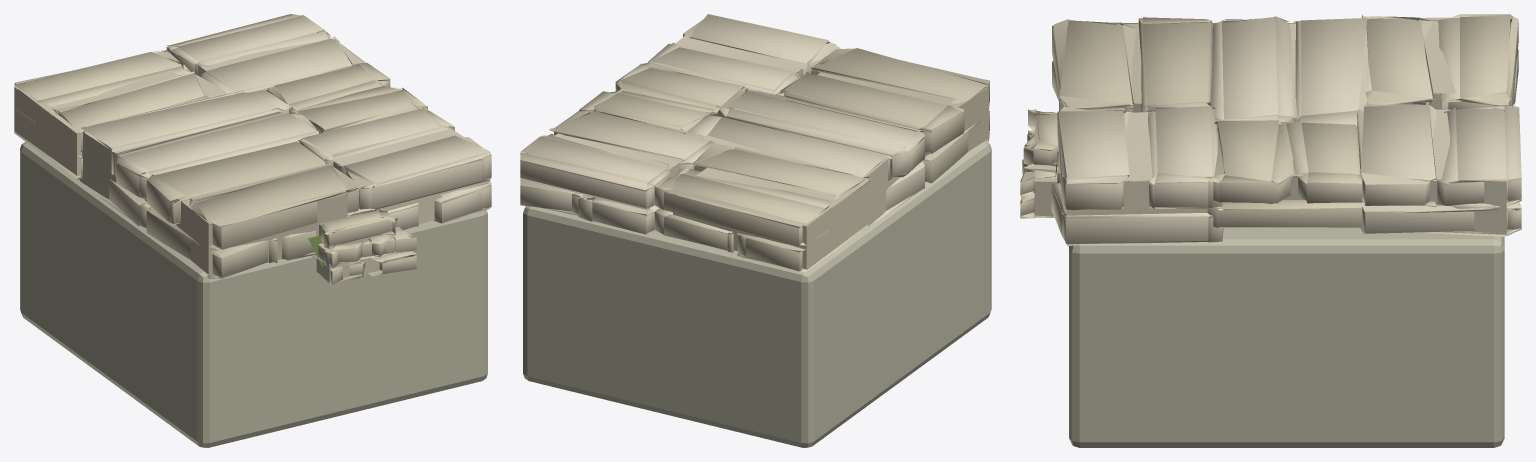
The model's file is bridge-02.glb.
3 renders of one model, left to right at view 1: azimuth 30°, elevation 25°; view 2: azimuth 150°, elevation 25°; view 3: azimuth 270°, elevation 25°, orthographic. The views are drawn at different scales.
Visible parts, largest first — view 1: Continuous arch foundation.001, CC0 worn paving.006, CC0 worn paving.008, CC0 worn paving.007, CC0 worn paving.010, CC0 worn paving.011, CC0 worn paving.009, CC0 worn paving.012, CC0 worn paving.013; view 2: Continuous arch foundation.001, CC0 worn paving.010, CC0 worn paving.011, CC0 worn paving.008, CC0 worn paving.006, CC0 worn paving.007, CC0 worn paving.009; view 3: Continuous arch foundation.001, CC0 worn paving.007, CC0 worn paving.011, CC0 worn paving.008, CC0 worn paving.009, CC0 worn paving.006, CC0 worn paving.010, CC0 worn paving.012, CC0 worn paving.013.
Part boxes in pixels (box(x1,y1,x2,y2)): Continuous arch foundation.001: box(20, 142, 487, 447); CC0 worn paving.006: box(146, 141, 361, 279); CC0 worn paving.008: box(80, 88, 318, 227); CC0 worn paving.007: box(298, 108, 491, 230); CC0 worn paving.010: box(14, 49, 225, 179); CC0 worn paving.011: box(166, 14, 365, 97); CC0 worn paving.009: box(267, 62, 427, 133); CC0 worn paving.012: box(311, 209, 395, 267); CC0 worn paving.013: box(316, 227, 416, 285); Continuous arch foundation.001: box(523, 141, 991, 447); CC0 worn paving.010: box(654, 143, 869, 272); CC0 worn paving.011: box(520, 109, 723, 234); CC0 worn paving.008: box(681, 90, 924, 225); CC0 worn paving.006: box(774, 48, 989, 183); CC0 worn paving.007: box(646, 14, 840, 97); CC0 worn paving.009: box(580, 62, 748, 132); Continuous arch foundation.001: box(1069, 227, 1504, 447); CC0 worn paving.007: box(1051, 106, 1223, 245); CC0 worn paving.011: box(1357, 101, 1521, 236); CC0 worn paving.008: box(1210, 16, 1368, 144); CC0 worn paving.009: box(1205, 120, 1362, 228); CC0 worn paving.006: box(1052, 17, 1213, 112); CC0 worn paving.010: box(1361, 14, 1518, 109); CC0 worn paving.012: box(1022, 109, 1058, 173); CC0 worn paving.013: box(1020, 134, 1058, 218).
Size of the model in its own units: 2 by 1.53 by 2.55.
